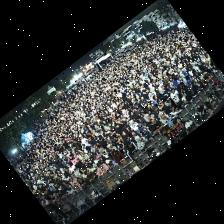person: (125, 141, 138, 165), (135, 110, 150, 125), (159, 112, 173, 127), (112, 150, 127, 164), (171, 89, 182, 108), (160, 88, 171, 105), (135, 136, 148, 149), (150, 119, 162, 133), (152, 106, 163, 121), (97, 163, 109, 176), (166, 105, 179, 117), (114, 139, 125, 153), (179, 92, 190, 106), (85, 170, 97, 182), (78, 177, 90, 188), (120, 131, 132, 142), (134, 105, 144, 118), (130, 120, 140, 133), (192, 80, 201, 94), (174, 76, 183, 90), (130, 131, 141, 142), (187, 75, 194, 92), (185, 86, 193, 100), (141, 129, 152, 139), (81, 160, 92, 170), (64, 185, 75, 195), (145, 114, 154, 126), (139, 123, 151, 132), (106, 159, 117, 168), (88, 163, 97, 173), (57, 190, 68, 198), (163, 74, 170, 86), (74, 168, 83, 177), (99, 148, 108, 157), (114, 132, 123, 141), (68, 177, 78, 185), (96, 155, 106, 163), (74, 184, 83, 192), (171, 136, 178, 146), (107, 144, 118, 150), (54, 192, 60, 203), (182, 74, 188, 85), (80, 152, 89, 159), (79, 169, 86, 178), (91, 155, 98, 164), (67, 163, 75, 170), (209, 69, 216, 77), (54, 184, 63, 190), (69, 171, 77, 177)
